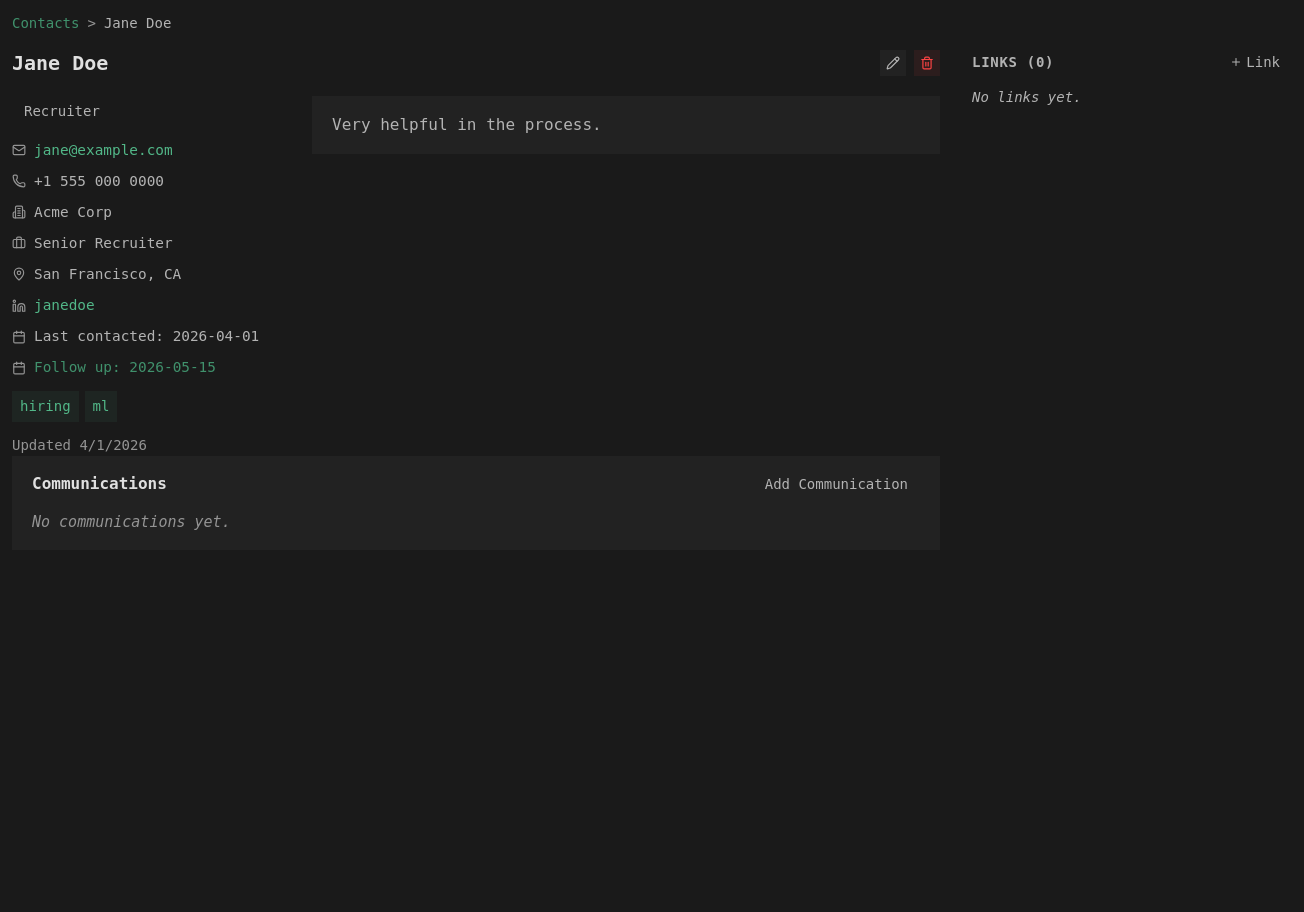
Test: ContactDetailView › edit button switches to edit mode with pre-populated name
expect the text "Jane Doe" is shown: met, box x1=104 y1=12 x2=171 y2=34
Click the button named "Edit" at (893, 63), box x1=880 y1=50 x2=906 y2=76
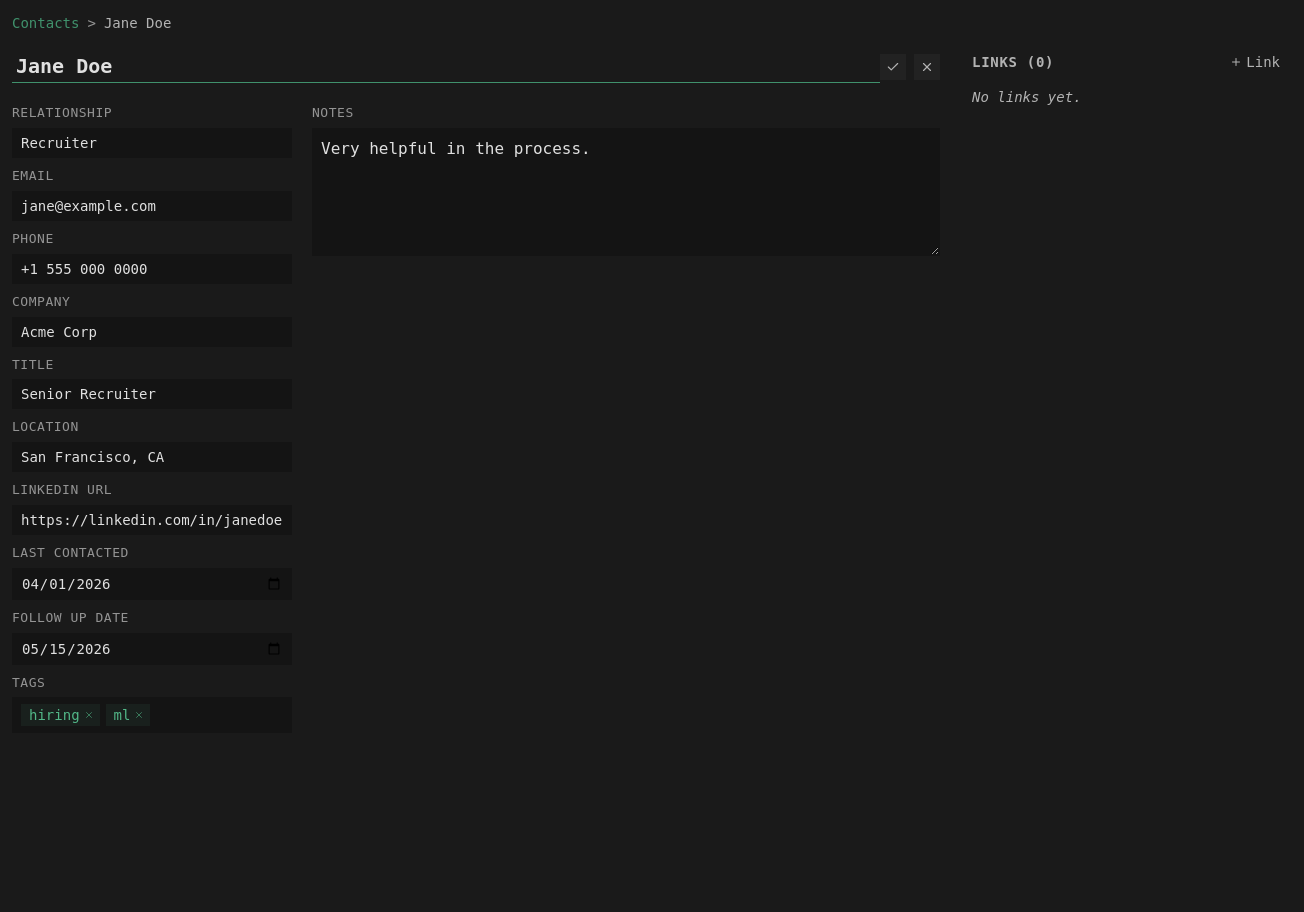
expect the field showing "Jane Doe" is shown: met, box x1=12 y1=50 x2=880 y2=83
